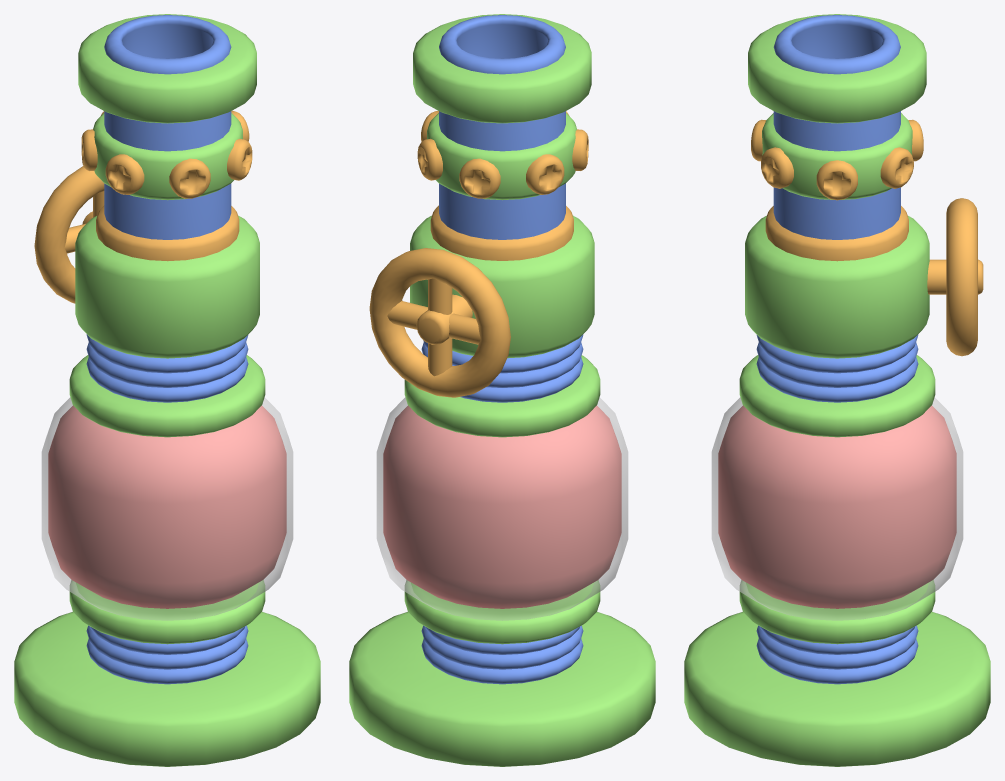
File: Rocket_Gun.fbx
3 views of the same model, side by side, from view 1: azimuth 30°, elevation 25°; view 2: azimuth 150°, elevation 25°; view 3: azimuth 270°, elevation 25° (orthographic).
Visible parts, largest first — view 1: Rocket_Gun; view 2: Rocket_Gun; view 3: Rocket_Gun.
Boxes of the visible parts, x1,y1,x2,y2 form: Rocket_Gun: [14, 14, 320, 766]; Rocket_Gun: [349, 14, 655, 766]; Rocket_Gun: [684, 14, 990, 766].
Bounding box in the file's own units: 4.34 × 10.51 × 4.34.
